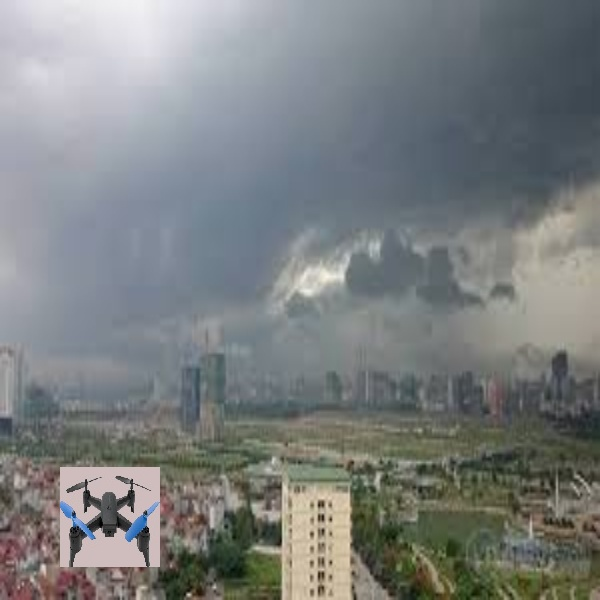drone: (59, 465, 158, 568)
